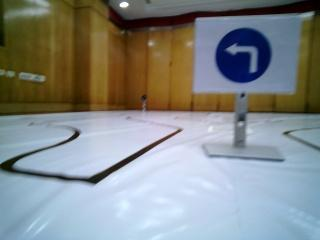left: (200, 23, 294, 89)
